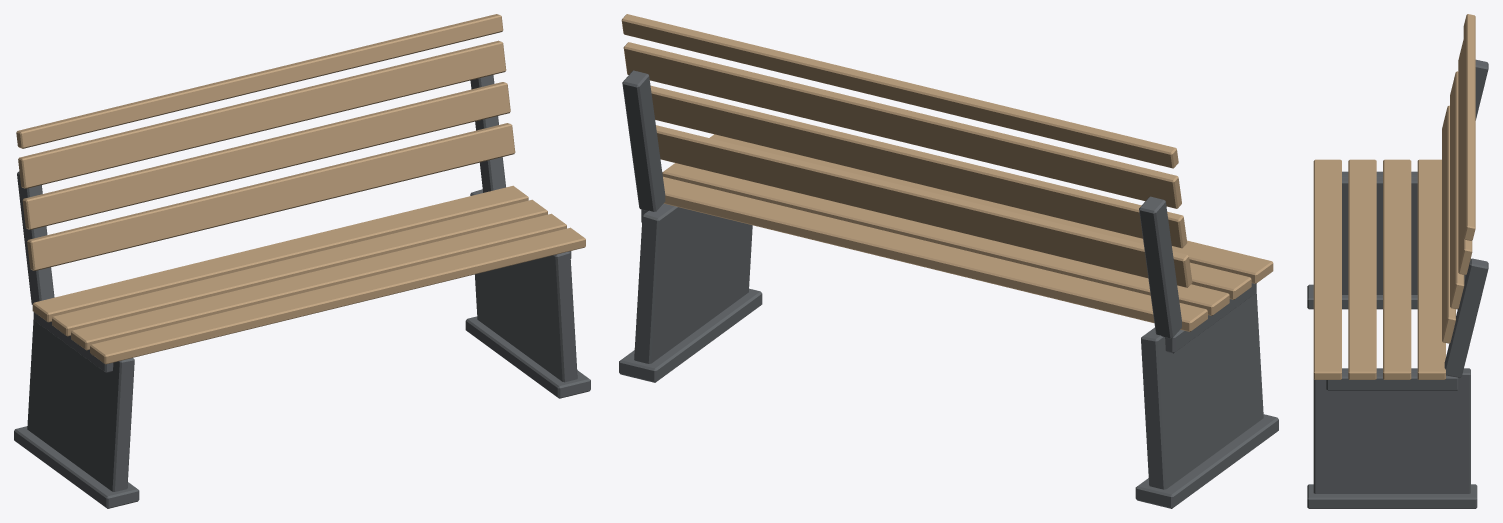
File: bakery-and-cafe-outdoor-bench-7a359f13__22216.glb
The picture shows the model from 3 angles, left to right: view 1: azimuth 30°, elevation 25°; view 2: azimuth 150°, elevation 25°; view 3: azimuth 270°, elevation 25°; orthographic projection. The views are drawn at different scales.
Parts seen in each view (by area): view 1: outdoor-bench; view 2: outdoor-bench; view 3: outdoor-bench.
Part boxes in pixels (x1,y1,x2,y2): outdoor-bench: (14, 14, 590, 508); outdoor-bench: (619, 14, 1278, 508); outdoor-bench: (1307, 14, 1488, 508).
Size of the model in its own units: 1.61 by 0.9924 by 0.5755.
